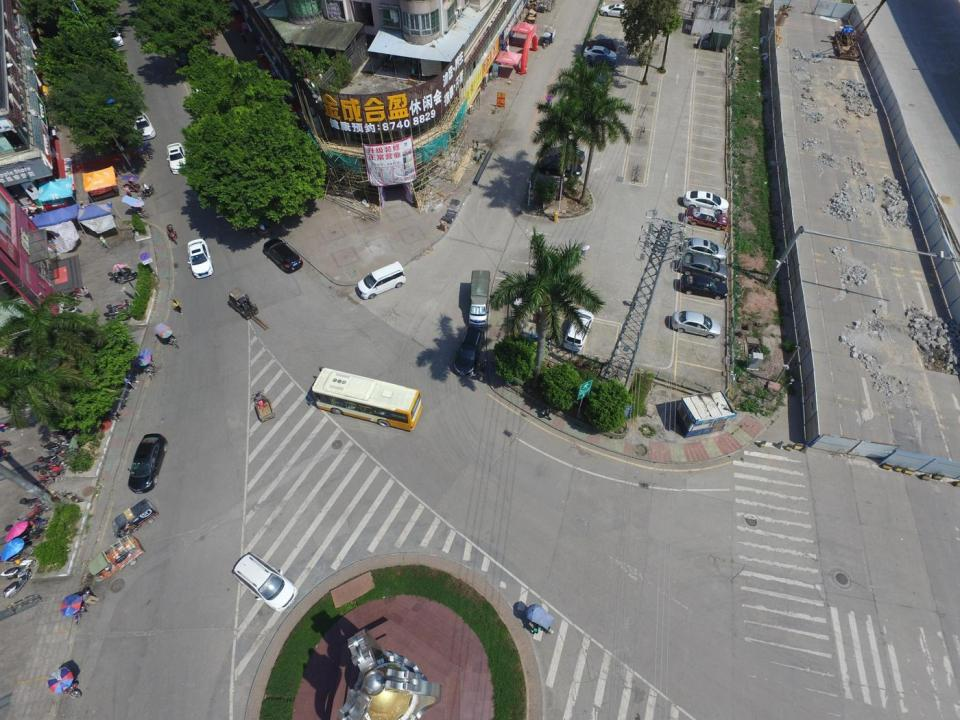bus: (312, 366, 422, 432)
car: (231, 551, 298, 611), (127, 433, 167, 494), (454, 327, 486, 378), (263, 238, 303, 274), (564, 307, 594, 353), (671, 310, 721, 336), (679, 254, 729, 280), (680, 273, 728, 299), (682, 236, 728, 262), (187, 239, 213, 280), (682, 191, 729, 213), (684, 207, 728, 230), (538, 157, 582, 177), (129, 110, 157, 141), (544, 146, 585, 165), (511, 293, 548, 314), (165, 143, 189, 174), (598, 3, 636, 20), (586, 57, 617, 72), (584, 45, 616, 59), (104, 25, 124, 47), (586, 38, 619, 51), (585, 70, 610, 86)
van: (89, 535, 141, 584), (356, 260, 407, 300), (113, 498, 157, 537), (469, 270, 490, 327), (697, 27, 732, 52)
